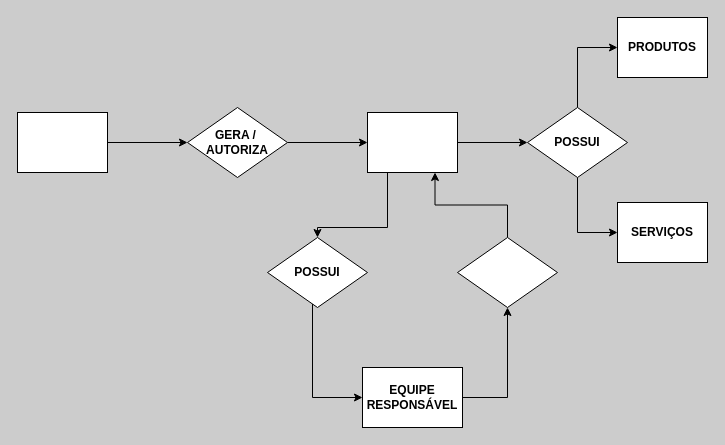
This 725x445 diagram has some shape labels left out. The centre of each missing label's shape, as x and y in pixels:
"ANALISA / EXECUTA" belongs at point 507,272.
"CLIENTE" belongs at point 62,142.
"ORDEM DE SERVIÇO" belongs at point 412,142.
